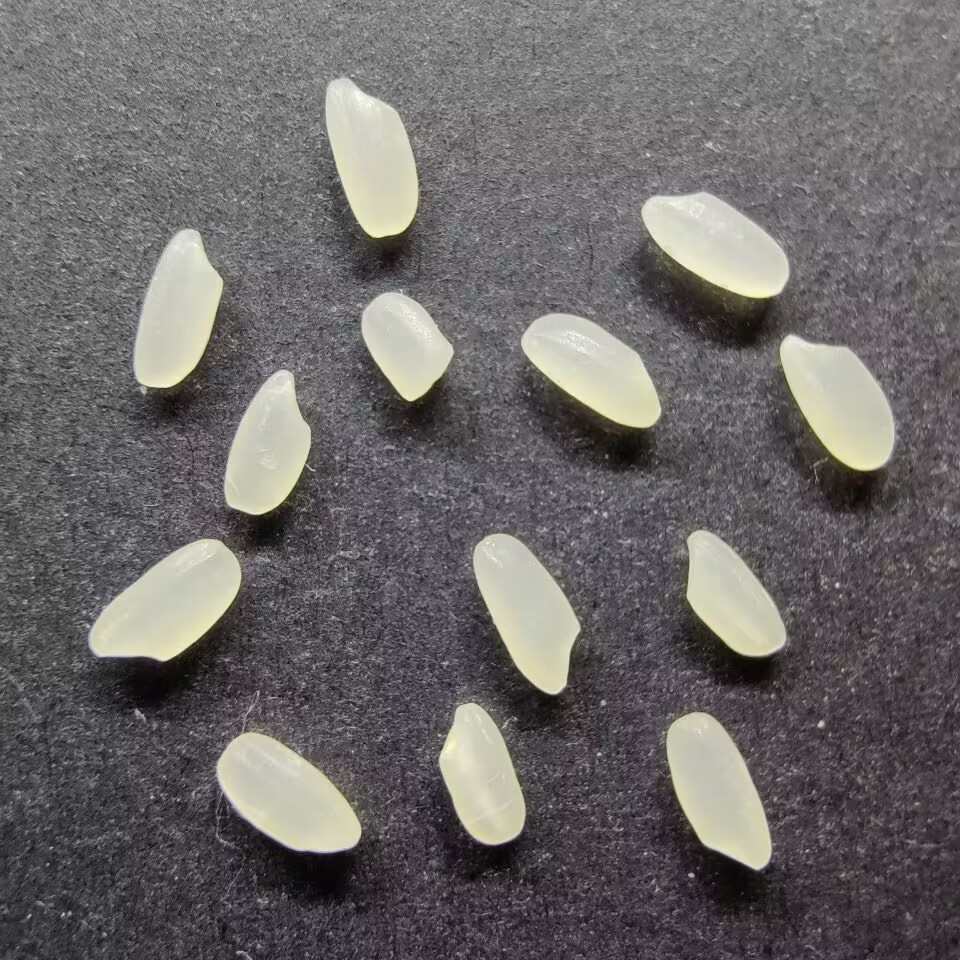broken: (359, 290, 454, 403)
rice: (86, 536, 243, 663), (215, 731, 362, 855), (471, 533, 582, 696), (518, 310, 664, 430), (666, 711, 773, 870), (779, 332, 899, 472), (639, 191, 791, 300), (322, 75, 420, 239), (133, 228, 225, 389), (683, 526, 790, 658), (221, 367, 313, 515), (437, 701, 526, 846)
